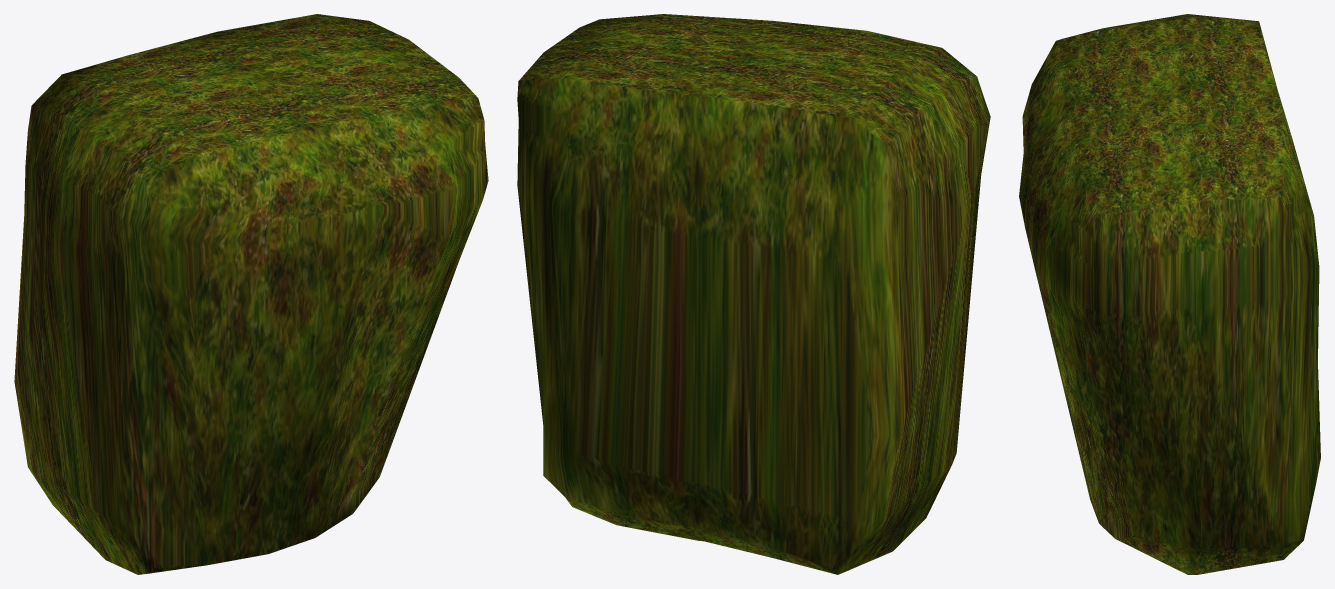
File: LVL_ROAST_MUTTON_ROCK01.fbx
3 views of the same model, side by side, from view 1: azimuth 30°, elevation 25°; view 2: azimuth 150°, elevation 25°; view 3: azimuth 270°, elevation 25° (orthographic). The views are drawn at different scales.
Visible parts, largest first — view 1: LVL_ROAST_MUTTON_ROCK01; view 2: LVL_ROAST_MUTTON_ROCK01; view 3: LVL_ROAST_MUTTON_ROCK01.
Part boxes in pixels (x1=…): LVL_ROAST_MUTTON_ROCK01: x1=14, y1=14, x2=488, y2=574; LVL_ROAST_MUTTON_ROCK01: x1=517, y1=14, x2=990, y2=574; LVL_ROAST_MUTTON_ROCK01: x1=1019, y1=14, x2=1320, y2=574.
Bounding box in the file's own units: 100241 × 114609 × 66454.
Materials: 1 (1 with a texture image).
